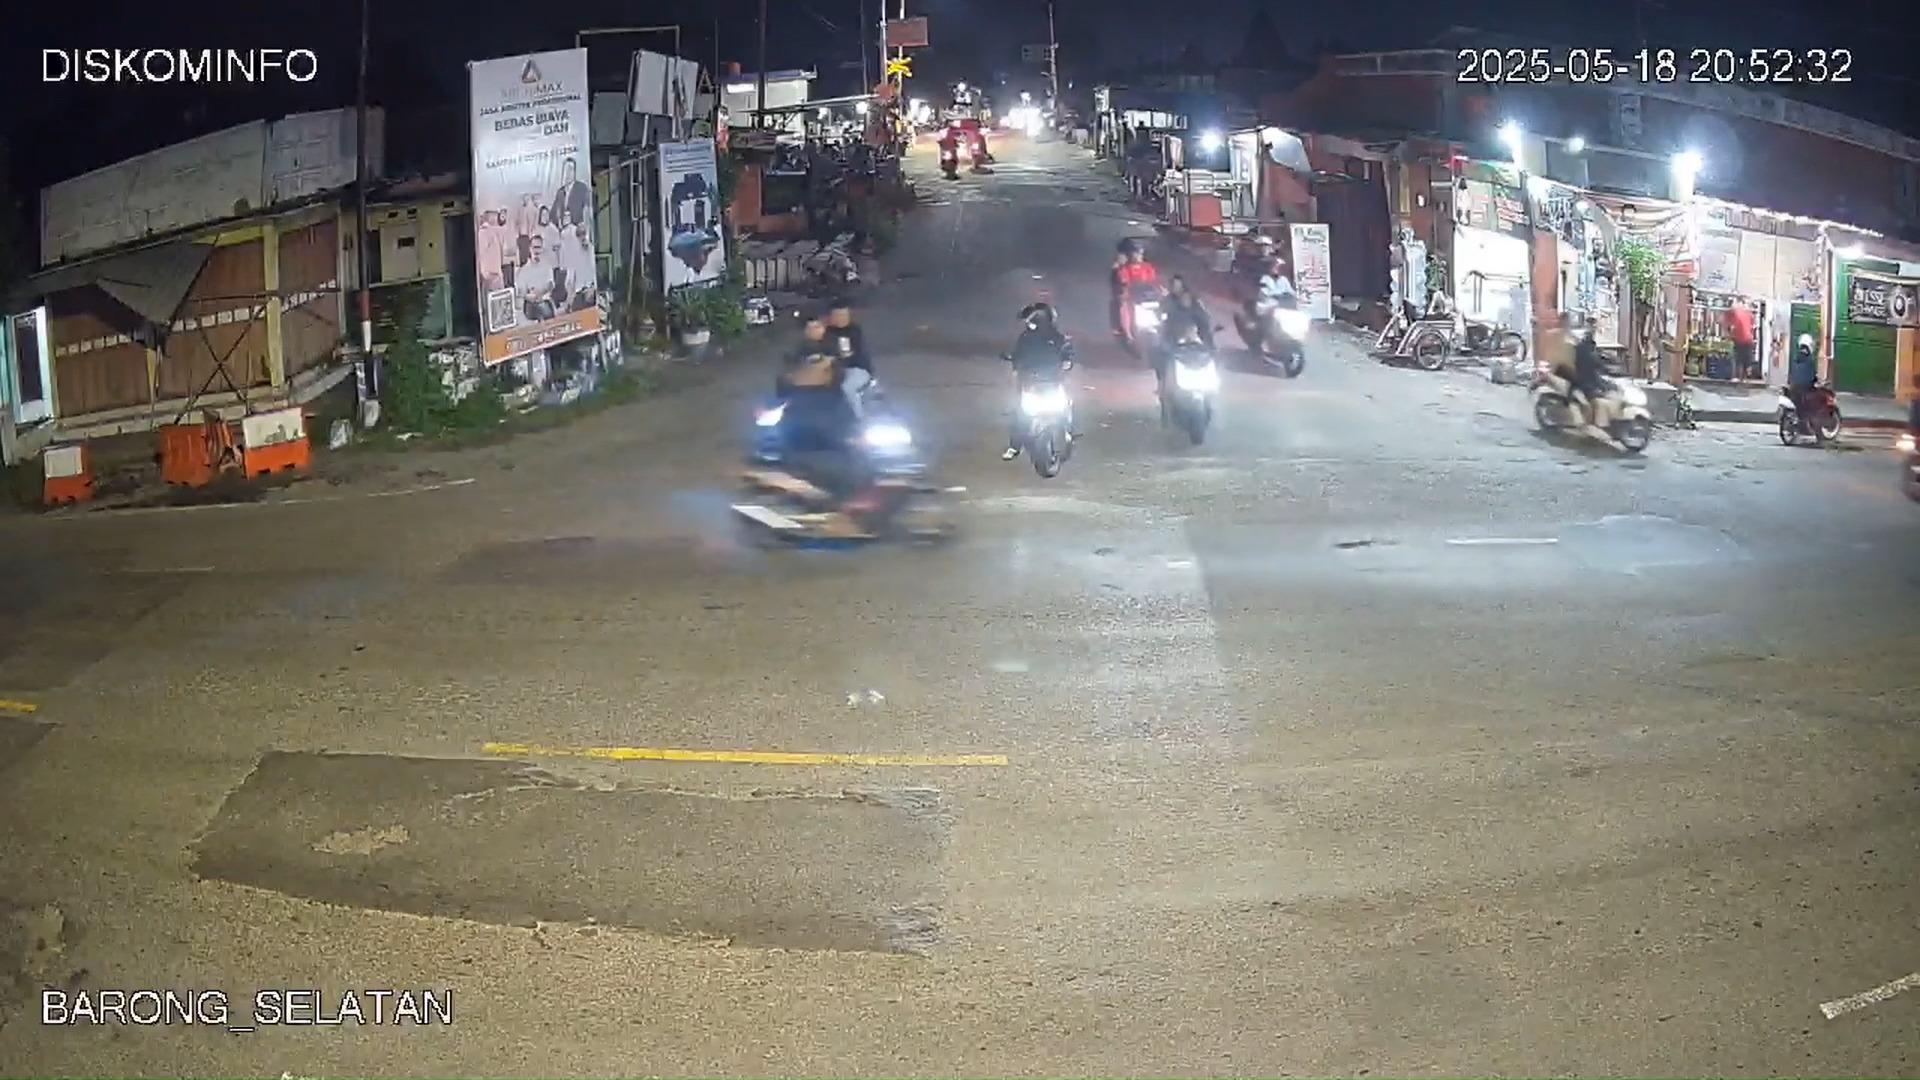Motor: (729, 357, 948, 550), (1528, 351, 1658, 452), (1000, 293, 1075, 460), (1154, 270, 1218, 410), (1109, 239, 1163, 361), (1776, 378, 1845, 448), (927, 99, 982, 175)
